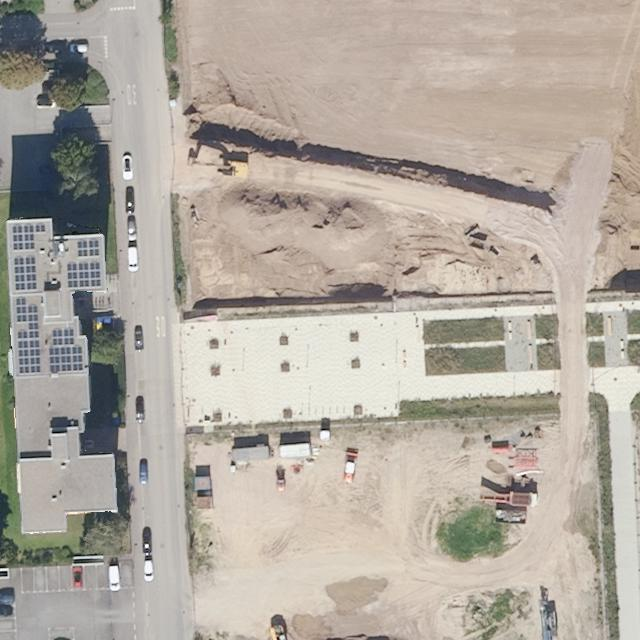PV: (12, 293, 43, 379), (46, 326, 88, 376), (64, 260, 104, 291), (8, 222, 48, 252), (12, 253, 39, 292), (73, 236, 102, 260)
